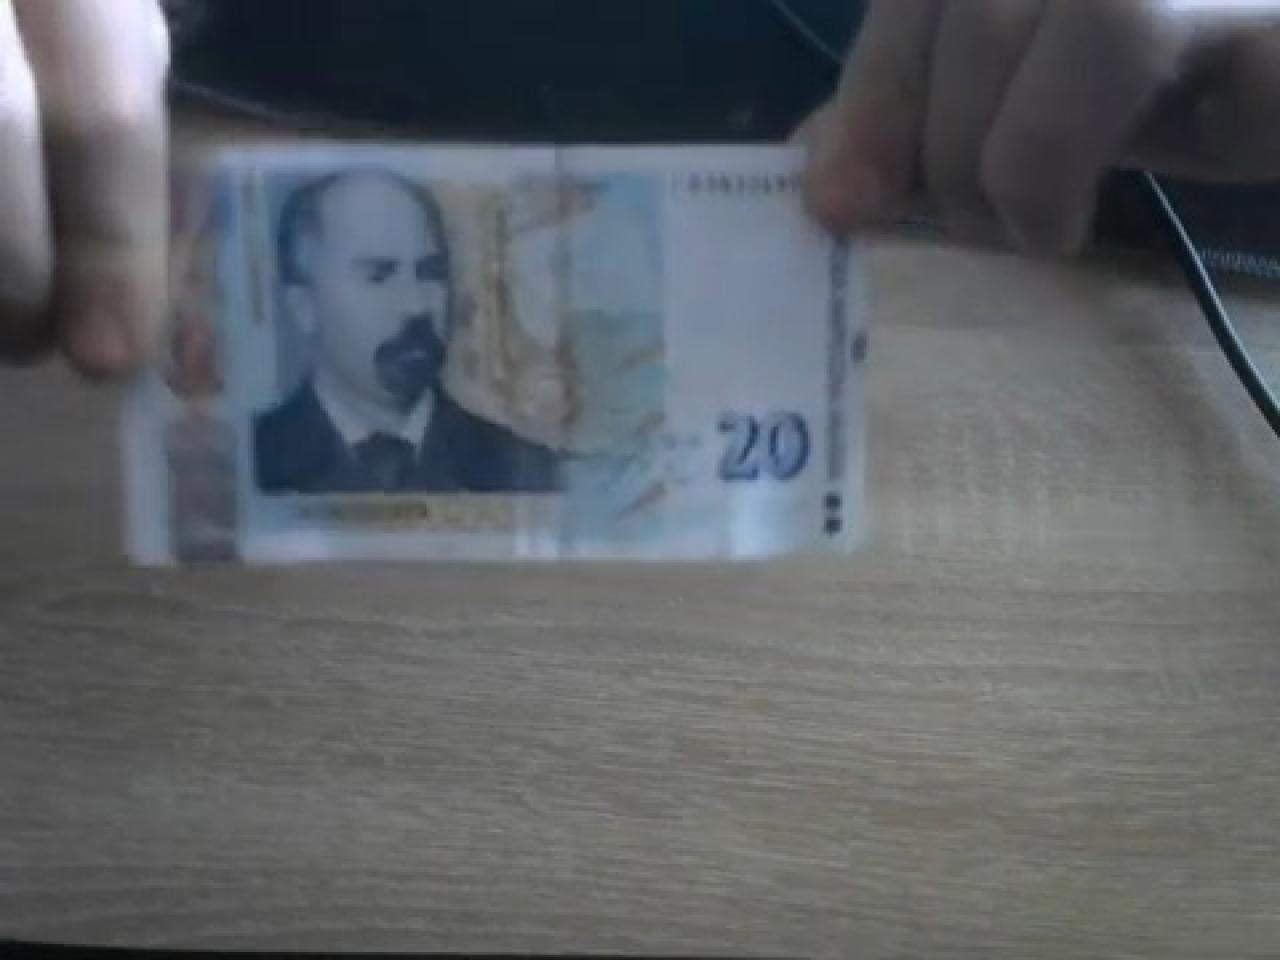20leva: (154, 67, 843, 600)
